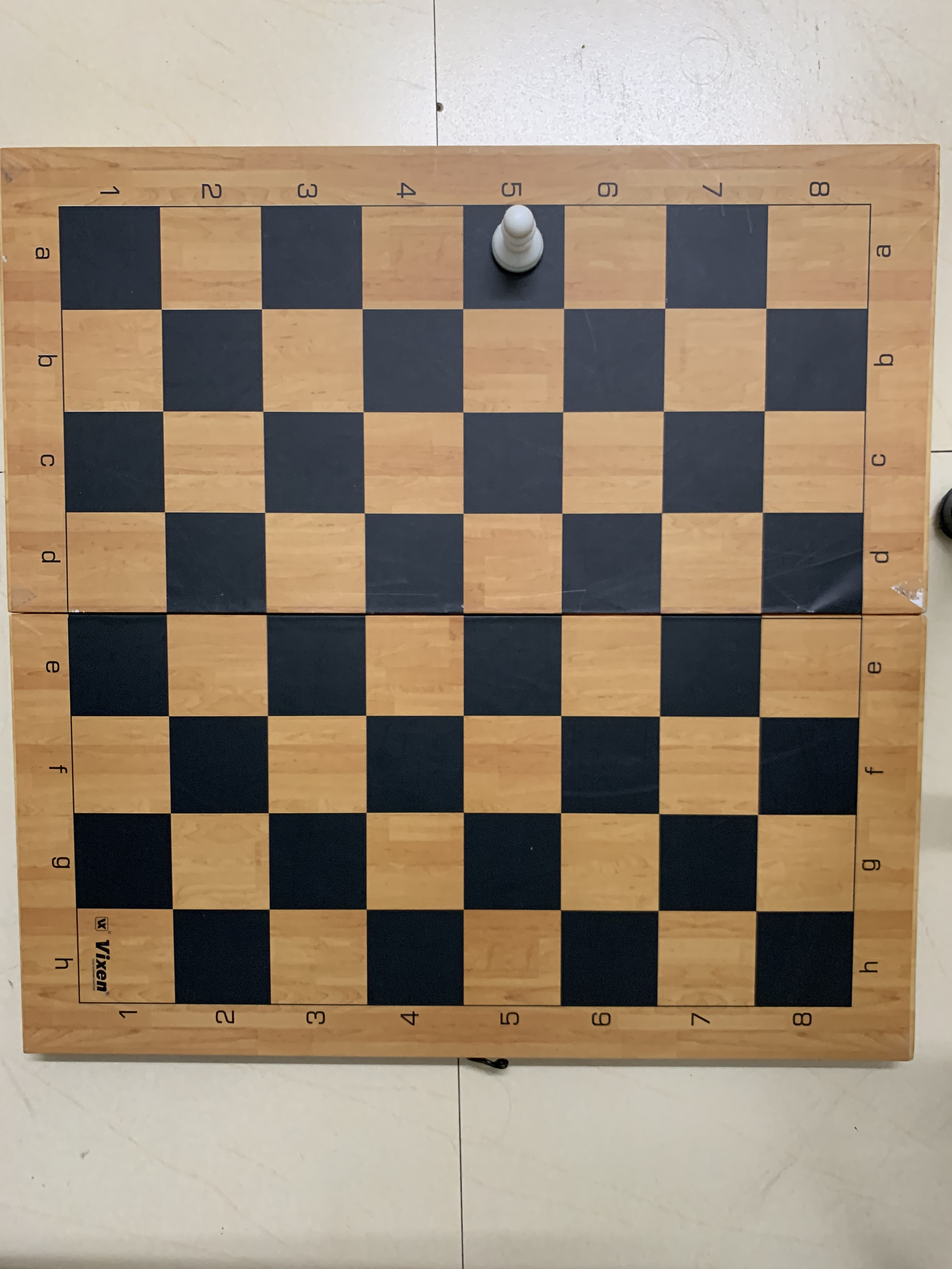white_pawn: (461, 203, 565, 309)
